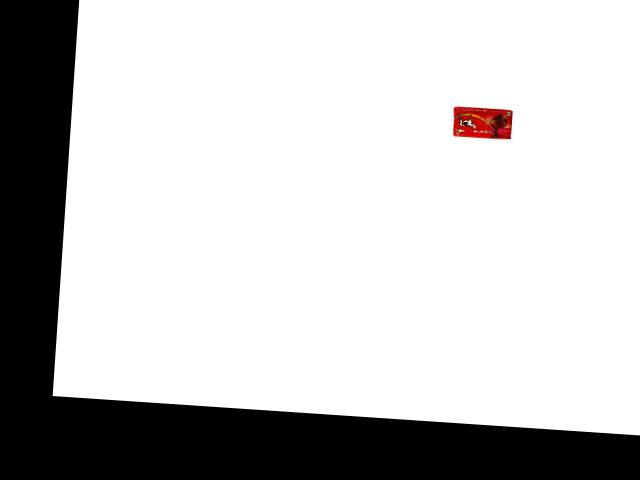chocolate: (449, 103, 513, 139)
